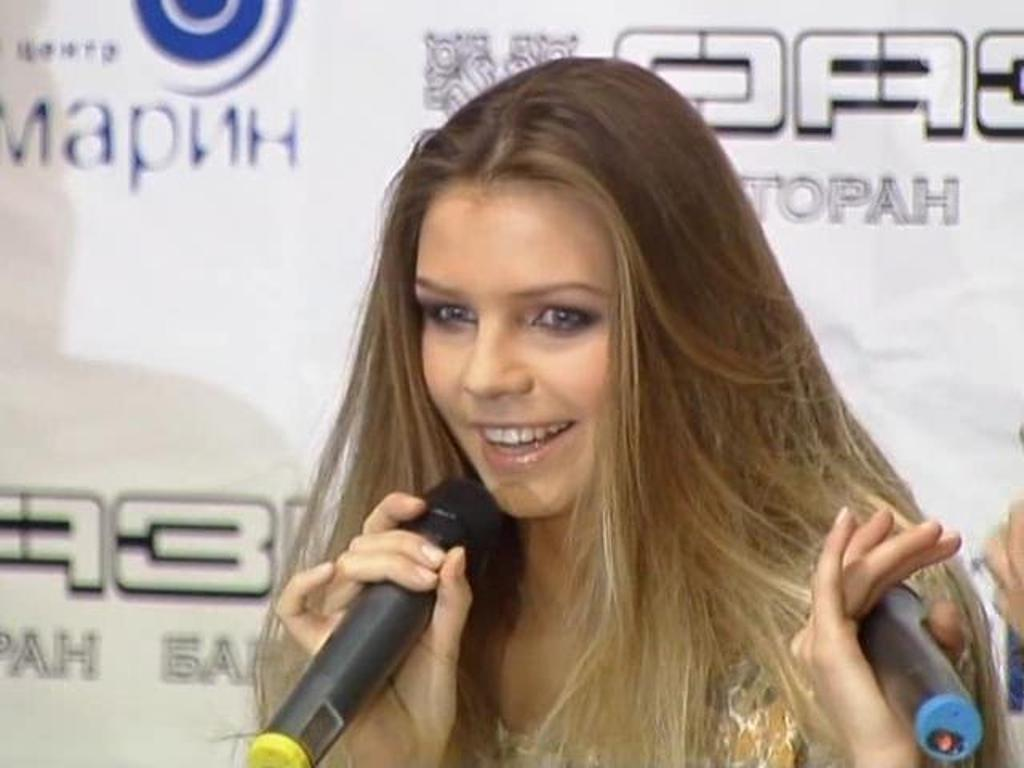face: (414, 192, 650, 518)
